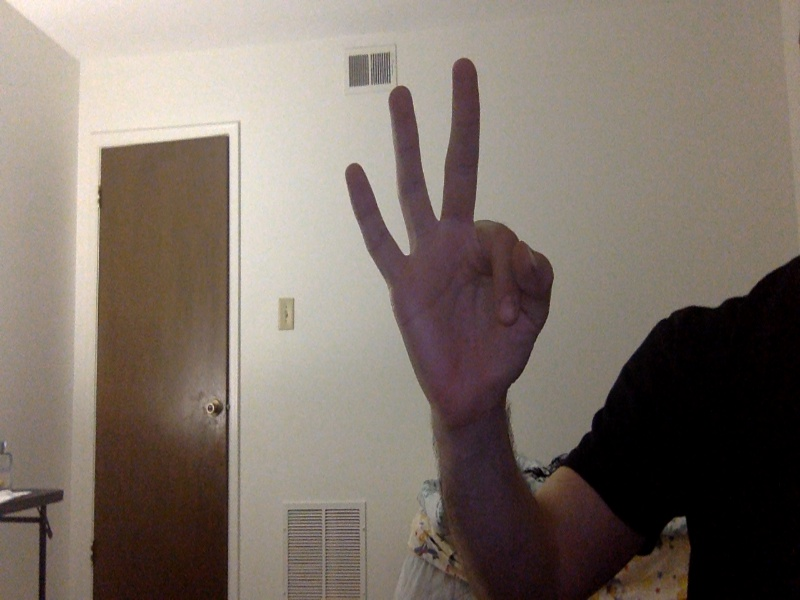3-hand: (343, 58, 557, 412)
